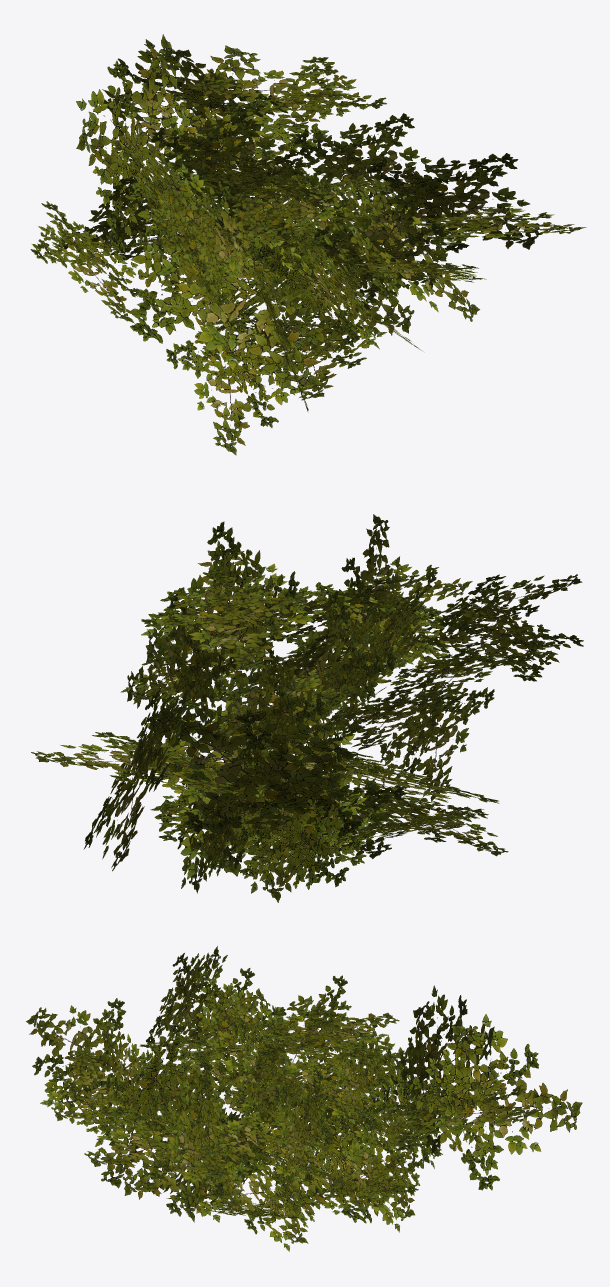
File: VistaTreeTopA.FBX
3 views of the same model, one above another, from view 1: azimuth 30°, elevation 25°; view 2: azimuth 150°, elevation 25°; view 3: azimuth 270°, elevation 25° (orthographic). The views are drawn at different scales.
Parts seen in each view (by area): view 1: VistaTreeTopA; view 2: VistaTreeTopA; view 3: VistaTreeTopA.
Part boxes in pixels (<box>): VistaTreeTopA: <box>30,34,586,455</box>; VistaTreeTopA: <box>31,514,583,902</box>; VistaTreeTopA: <box>26,946,582,1251</box>.
Bounding box in the file's own units: 20.61 × 12.8 × 26.89.
